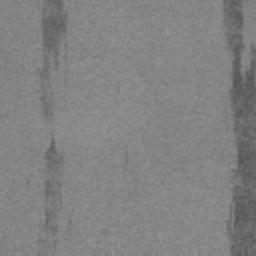Red iron sheet: (223, 0, 256, 256), (38, 0, 69, 122), (36, 138, 61, 255)
